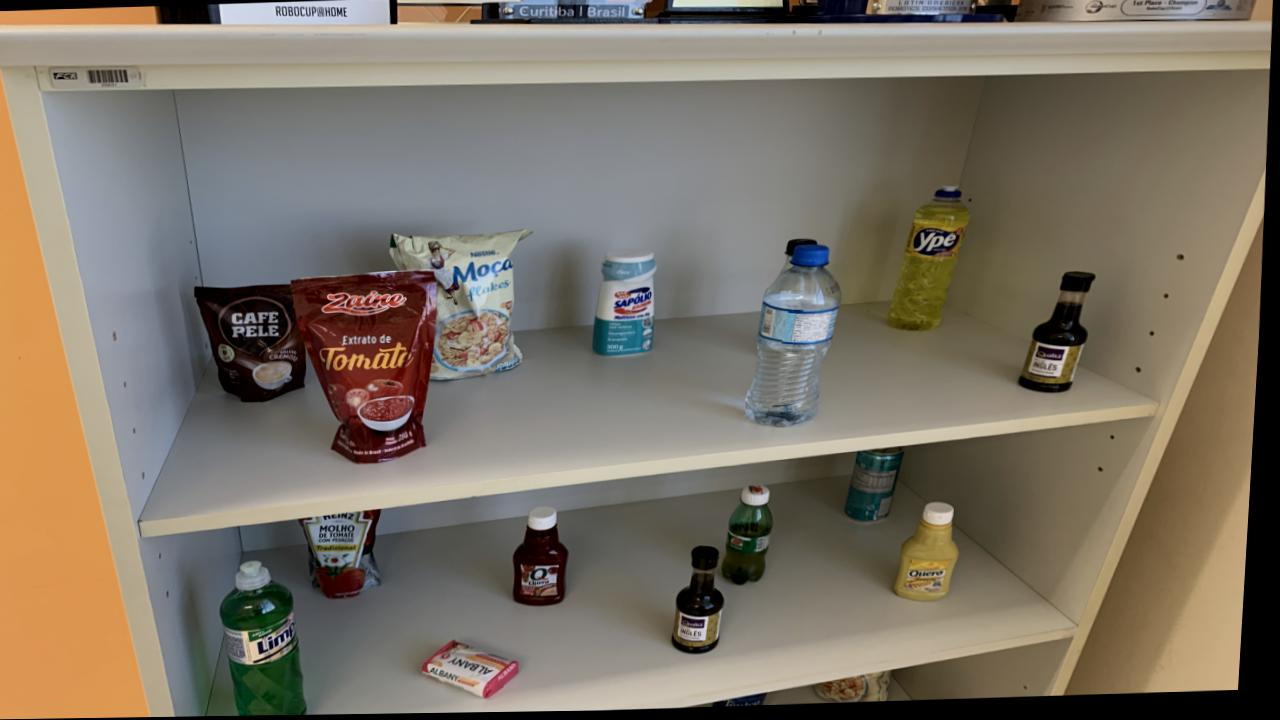Cleaner-Cleanup_Items: (598, 251, 661, 358)
Coffee-Pantry_Items: (197, 285, 311, 403)
Detergent-Cleanup_Items: (228, 562, 316, 717), (891, 189, 972, 333)
English_Sauce-Pantry_Items: (1025, 275, 1098, 396), (680, 548, 731, 656)
Flakes-Snacks: (394, 232, 534, 382)
Guarana-Drinks: (729, 489, 781, 587)
Ketchup-Pantry_Items: (520, 508, 575, 608)
Mustard-Pantry_Items: (901, 504, 965, 604)
Soap-Cleanup_Items: (431, 642, 527, 699)
Tea-Drinks: (851, 451, 910, 525)
Tomato_Sauce-Pantry_Items: (295, 272, 440, 465), (306, 511, 387, 599)
Water_Bottle-Drinks: (749, 248, 845, 430)
